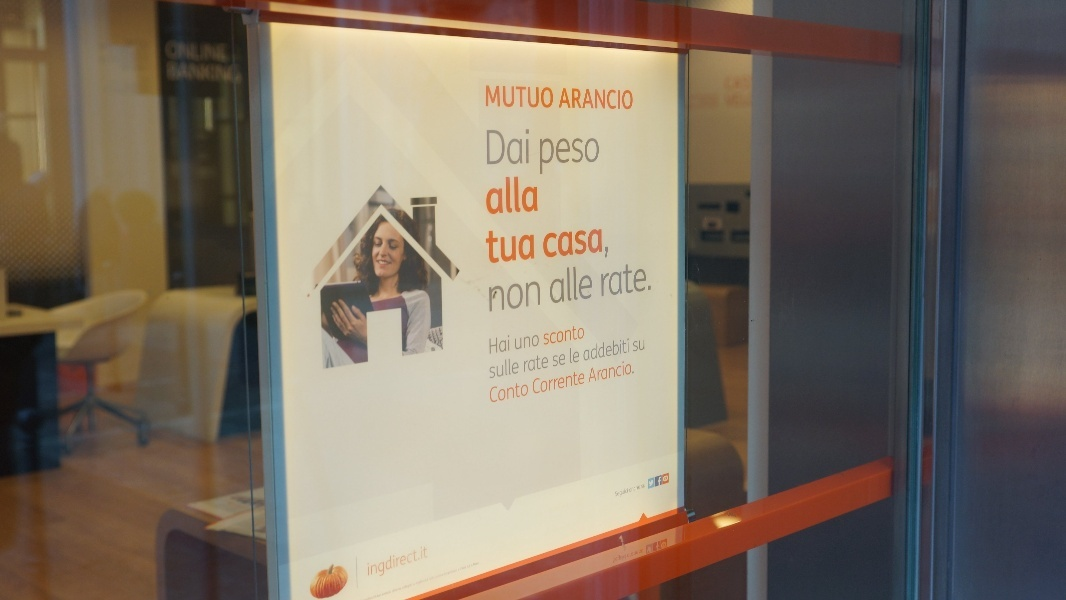text: (177, 40, 192, 86), (193, 40, 208, 86), (209, 40, 224, 86), (225, 40, 240, 86), (497, 172, 512, 217), (513, 172, 528, 217), (561, 263, 576, 307), (577, 263, 592, 307), (609, 258, 624, 299), (625, 258, 640, 299), (545, 136, 560, 176), (561, 136, 576, 176), (577, 136, 592, 176), (497, 129, 512, 167), (513, 129, 528, 167), (497, 228, 512, 266), (513, 228, 528, 266), (545, 228, 560, 266), (561, 228, 576, 266), (577, 228, 592, 266), (593, 228, 608, 266), (385, 562, 400, 600), (401, 562, 416, 600), (417, 562, 432, 600), (433, 562, 448, 600), (449, 562, 464, 600), (465, 562, 480, 600), (370, 562, 384, 600), (497, 280, 512, 314), (513, 280, 528, 314), (369, 548, 384, 582), (385, 548, 400, 582), (401, 548, 416, 582), (165, 40, 176, 86), (549, 263, 560, 307), (641, 258, 652, 299), (486, 172, 496, 217), (529, 172, 539, 217), (485, 228, 496, 266), (529, 280, 541, 314), (593, 335, 608, 362), (609, 335, 624, 362), (545, 369, 560, 395), (561, 369, 576, 395), (497, 85, 512, 109), (513, 85, 528, 109), (529, 85, 544, 109), (497, 380, 512, 404), (513, 380, 528, 404), (497, 357, 512, 380), (593, 360, 608, 383), (609, 360, 624, 383), (487, 129, 496, 167), (577, 88, 592, 110), (593, 88, 608, 110), (609, 88, 624, 110), (545, 324, 560, 346), (561, 324, 576, 346), (593, 136, 601, 176), (529, 352, 544, 373), (532, 369, 544, 395), (601, 258, 608, 299), (563, 88, 576, 110), (529, 228, 536, 266), (497, 335, 510, 354), (486, 85, 496, 109), (489, 280, 496, 314), (577, 369, 586, 395), (625, 360, 635, 383), (545, 85, 554, 109), (584, 335, 592, 362), (625, 549, 640, 563), (515, 335, 528, 351), (625, 88, 634, 110), (577, 324, 586, 346), (529, 335, 541, 351), (513, 357, 521, 380), (241, 40, 245, 86), (420, 545, 432, 560), (489, 380, 496, 404), (540, 136, 544, 176), (613, 549, 624, 563), (490, 357, 496, 380), (625, 335, 630, 362), (658, 477, 672, 486), (490, 335, 496, 354), (615, 488, 624, 500), (417, 548, 420, 582), (629, 484, 640, 493), (553, 354, 560, 368), (593, 263, 595, 307), (524, 352, 528, 373), (545, 352, 549, 373), (561, 354, 567, 368), (633, 340, 640, 352), (642, 484, 656, 490), (571, 348, 576, 364), (529, 129, 531, 167), (542, 228, 544, 266), (662, 542, 672, 548), (577, 348, 580, 364), (641, 340, 645, 352), (625, 488, 629, 500), (664, 476, 672, 481), (609, 228, 610, 266), (367, 548, 368, 582), (641, 549, 643, 563), (529, 380, 530, 404)
